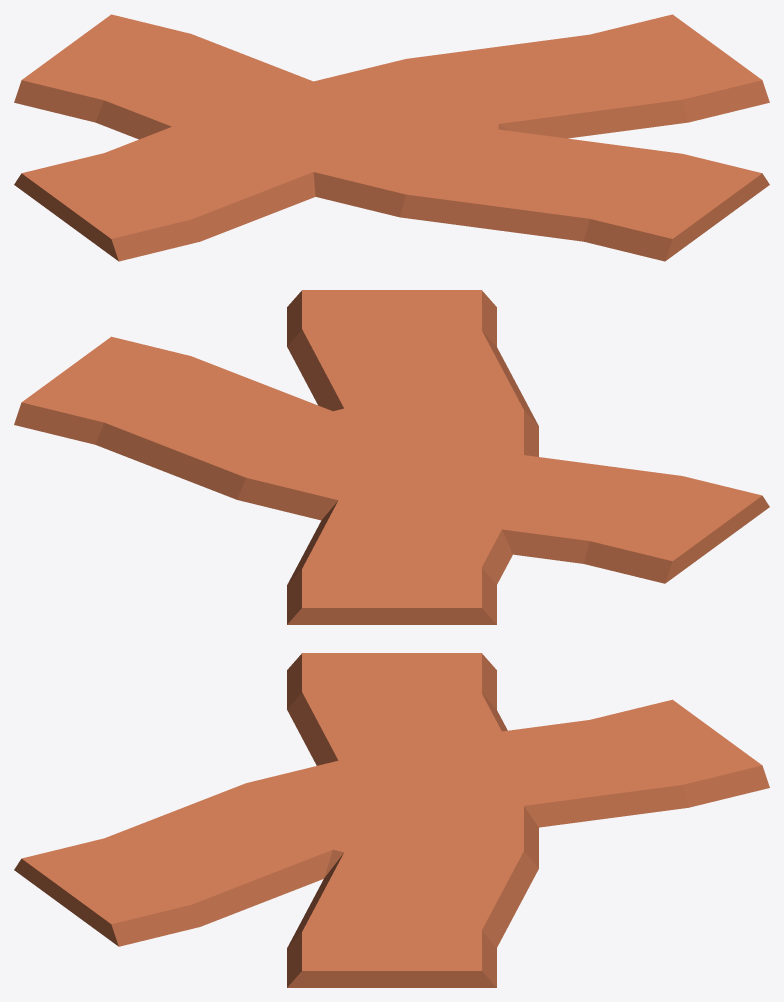
File: path_intersectionE.fbx
3 views of the same model, one above another, from view 1: azimuth 30°, elevation 25°; view 2: azimuth 150°, elevation 25°; view 3: azimuth 270°, elevation 25° (orthographic).
Parts seen in each view (by area): view 1: path_intersectionE; view 2: path_intersectionE; view 3: path_intersectionE.
Part boxes in pixels (x1,y1,x2,y2): path_intersectionE: [14, 14, 769, 261]; path_intersectionE: [14, 290, 769, 624]; path_intersectionE: [14, 653, 769, 987].
Bounding box in the file's own units: 10 × 0.25 × 10.06.
